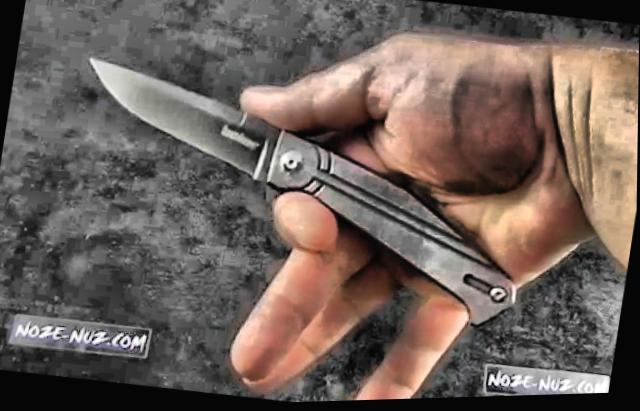knife: (50, 31, 403, 267)
